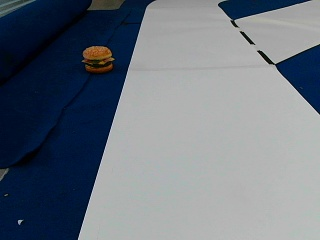burger: (82, 44, 113, 72)
